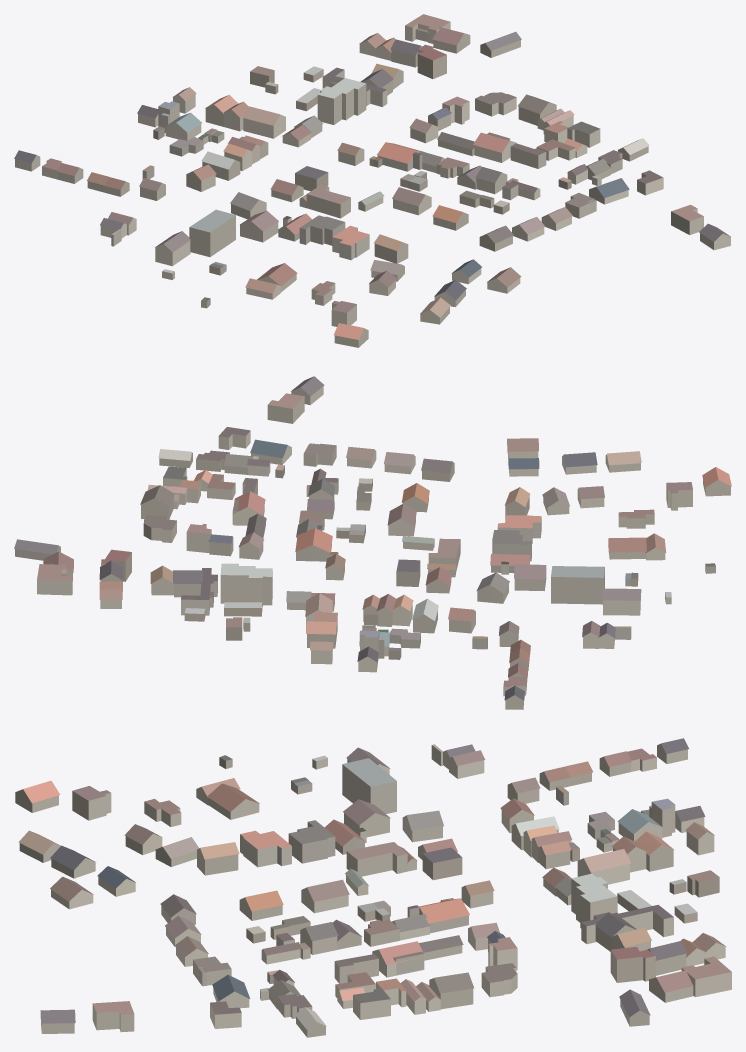
3 renders of one model, top to bottom at view 1: azimuth 30°, elevation 25°; view 2: azimuth 150°, elevation 25°; view 3: azimuth 270°, elevation 25°, orthographic. The views are drawn at different scales.
Parts seen in each view (by area): view 1: tuile; view 2: tuile; view 3: tuile.
Part boxes in pixels (x1,y1,x2,y2): tuile: (14, 14, 730, 347); tuile: (14, 376, 731, 709); tuile: (15, 738, 731, 1037).
Size of the model in its own units: 259 by 21.03 by 265.
